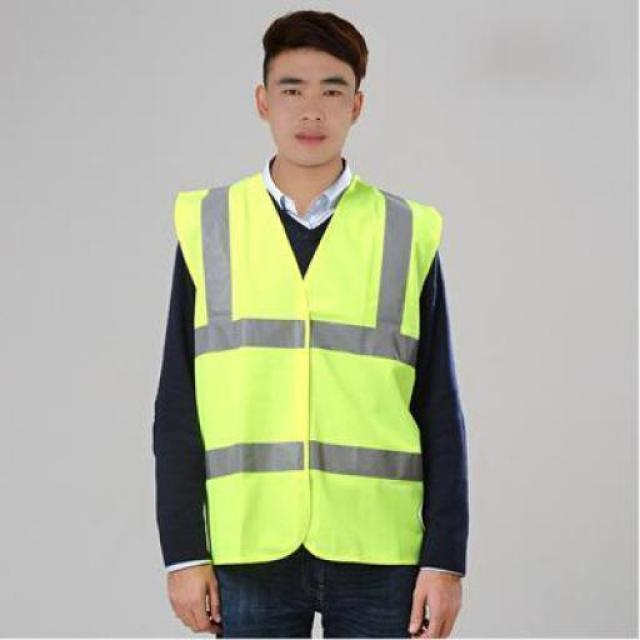face_nomask: (267, 71, 354, 155)
hand_noglove: (159, 550, 229, 640), (396, 554, 468, 640)
head_nohelmet: (251, 5, 370, 76)
person: (140, 0, 484, 640)
vest: (168, 173, 447, 568)
